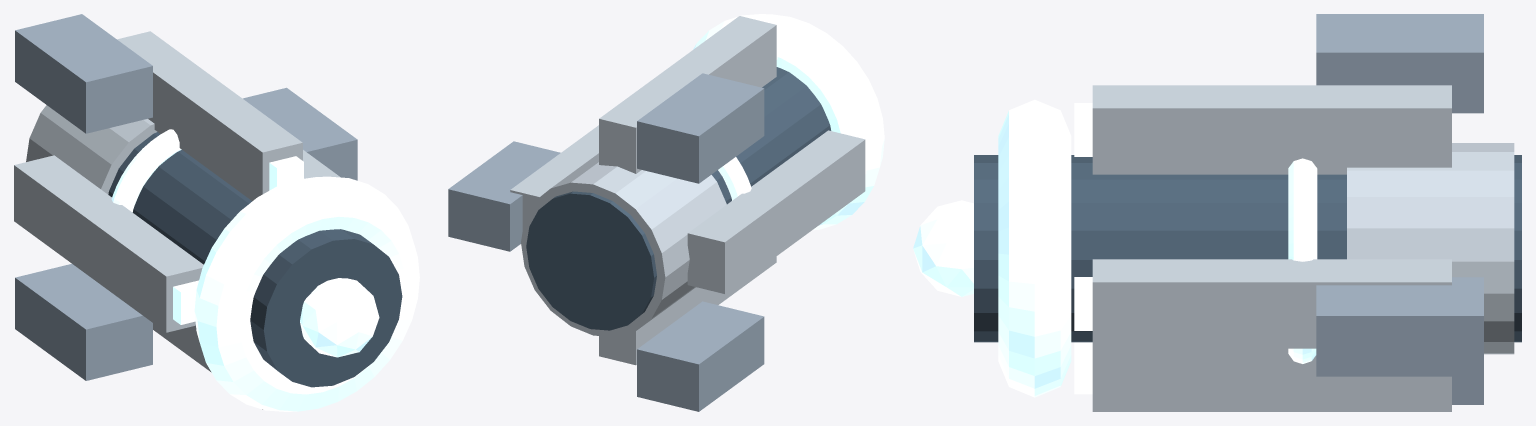
The model's file is sussurro.glb.
3 renders of one model, left to right at view 1: azimuth 30°, elevation 25°; view 2: azimuth 150°, elevation 25°; view 3: azimuth 270°, elevation 25°, orthographic. The views are drawn at different scales.
Visible parts, largest first — view 1: Emitter3, Barrel0, ArmorFin9, ArmorFin7, JetPod14, JetPod15, Housing1, Muzzle4, JetPod13, Capacitor16, ArmorFin11, Lumen10 (+2 smaller); view 2: Barrel0, ArmorFin9, Housing1, JetPod14, JetPod15, Emitter3, ArmorFin7, JetPod13, ArmorFin11, ArmorFin5, Capacitor16; view 3: ArmorFin7, Barrel0, ArmorFin5, Housing1, Emitter3, ArmorFin11, JetPod13, JetPod14, Muzzle4, Capacitor16, Lumen6, Lumen8 (+2 smaller).
Part boxes in pixels (box(x1,y1,x2,y2)): Emitter3: box(194, 176, 419, 411); Barrel0: box(108, 132, 402, 387); ArmorFin9: box(14, 155, 203, 332); ArmorFin7: box(117, 31, 302, 200); JetPod14: box(15, 14, 152, 133); JetPod15: box(15, 264, 152, 380); Housing1: box(26, 105, 157, 194); Muzzle4: box(300, 278, 379, 357); JetPod13: box(243, 87, 357, 180); Capacitor16: box(111, 129, 181, 212); ArmorFin11: box(153, 323, 262, 409); Lumen10: box(173, 280, 198, 324); Barrel0: box(526, 67, 831, 330); ArmorFin9: box(687, 130, 865, 293); Housing1: box(521, 153, 726, 337); JetPod14: box(637, 73, 764, 183); JetPod15: box(637, 301, 764, 411); Emitter3: box(693, 14, 884, 230); ArmorFin7: box(599, 16, 776, 173); JetPod13: box(448, 141, 560, 251); ArmorFin11: box(599, 256, 776, 365); ArmorFin5: box(510, 125, 598, 229); Capacitor16: box(718, 157, 751, 200); ArmorFin7: box(1092, 85, 1451, 174); Barrel0: box(974, 155, 1521, 342); ArmorFin5: box(1092, 259, 1451, 348); Housing1: box(1347, 143, 1514, 354); Emitter3: box(998, 99, 1071, 397); ArmorFin11: box(1092, 348, 1451, 411); JetPod13: box(1316, 277, 1483, 376); JetPod14: box(1316, 14, 1483, 113); Muzzle4: box(913, 200, 973, 296); Capacitor16: box(1288, 158, 1317, 363); Lumen6: box(1074, 277, 1092, 330); Lumen8: box(1074, 103, 1092, 156).
Bounding box in the file's own units: 1.28 × 1.28 × 2.
